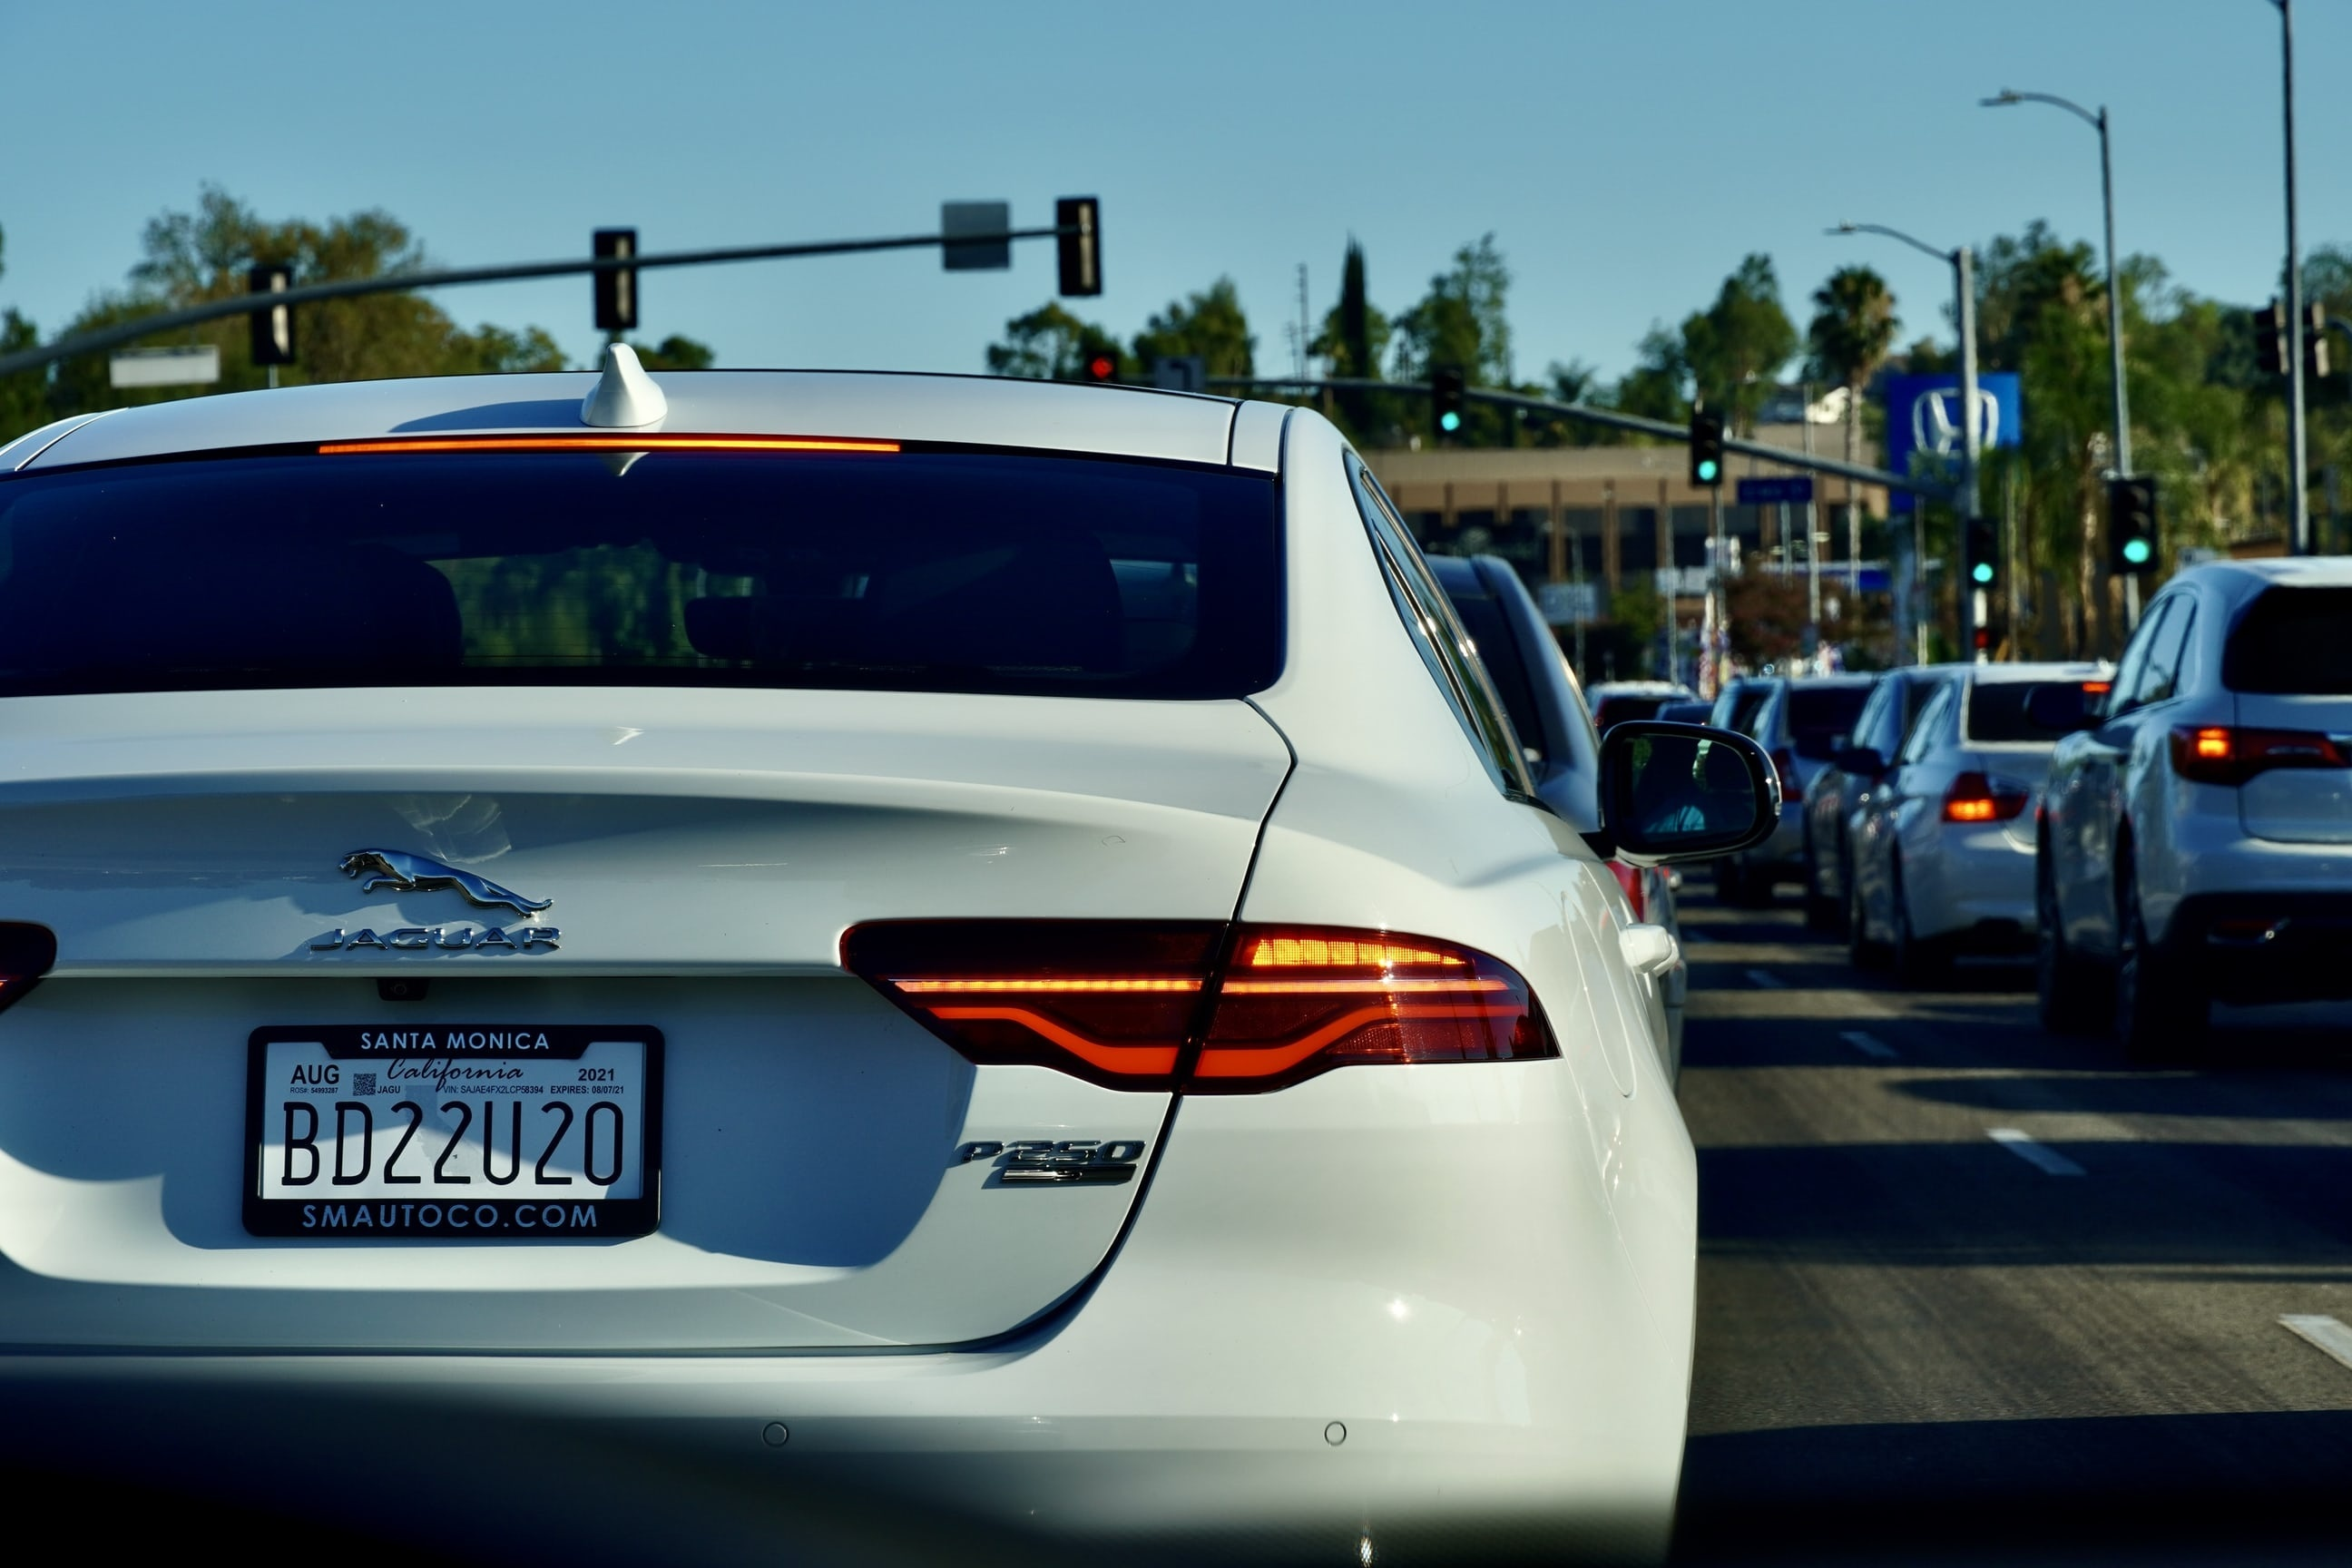plaka: (249, 1024, 664, 1209)
